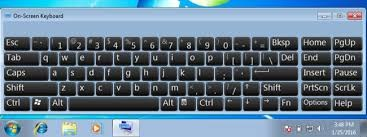keyboard: (4, 27, 362, 109)
